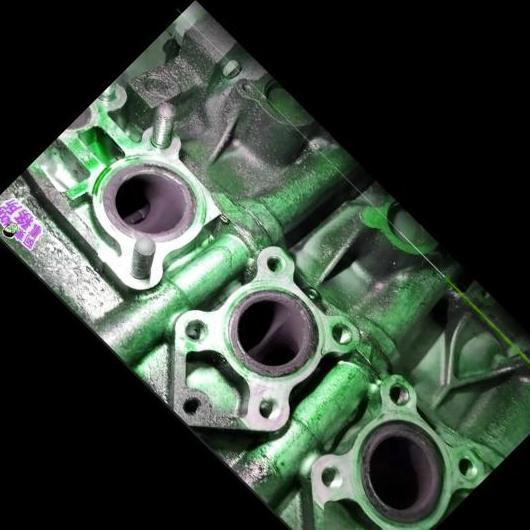hole: (253, 392, 288, 427), (180, 314, 215, 349), (316, 461, 350, 496), (384, 379, 417, 412), (327, 319, 359, 351), (453, 453, 485, 484), (263, 250, 290, 278)
